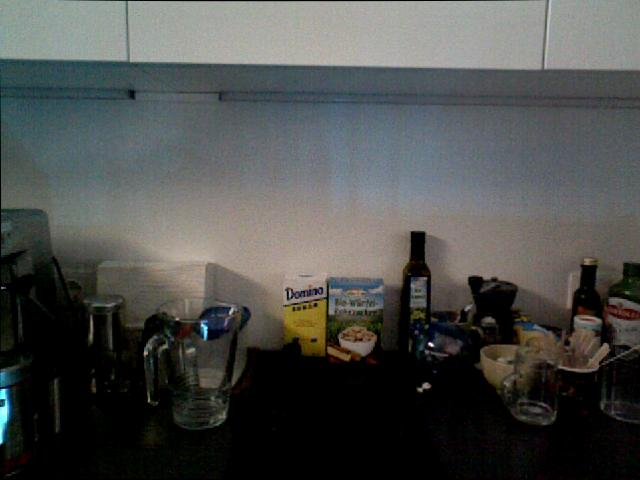bench: (399, 230, 431, 355), (607, 254, 640, 359), (570, 256, 603, 333)
bird: (479, 343, 538, 391), (337, 328, 377, 357)
handbag: (143, 296, 243, 430), (506, 344, 561, 428), (542, 343, 598, 415), (599, 340, 640, 421)
